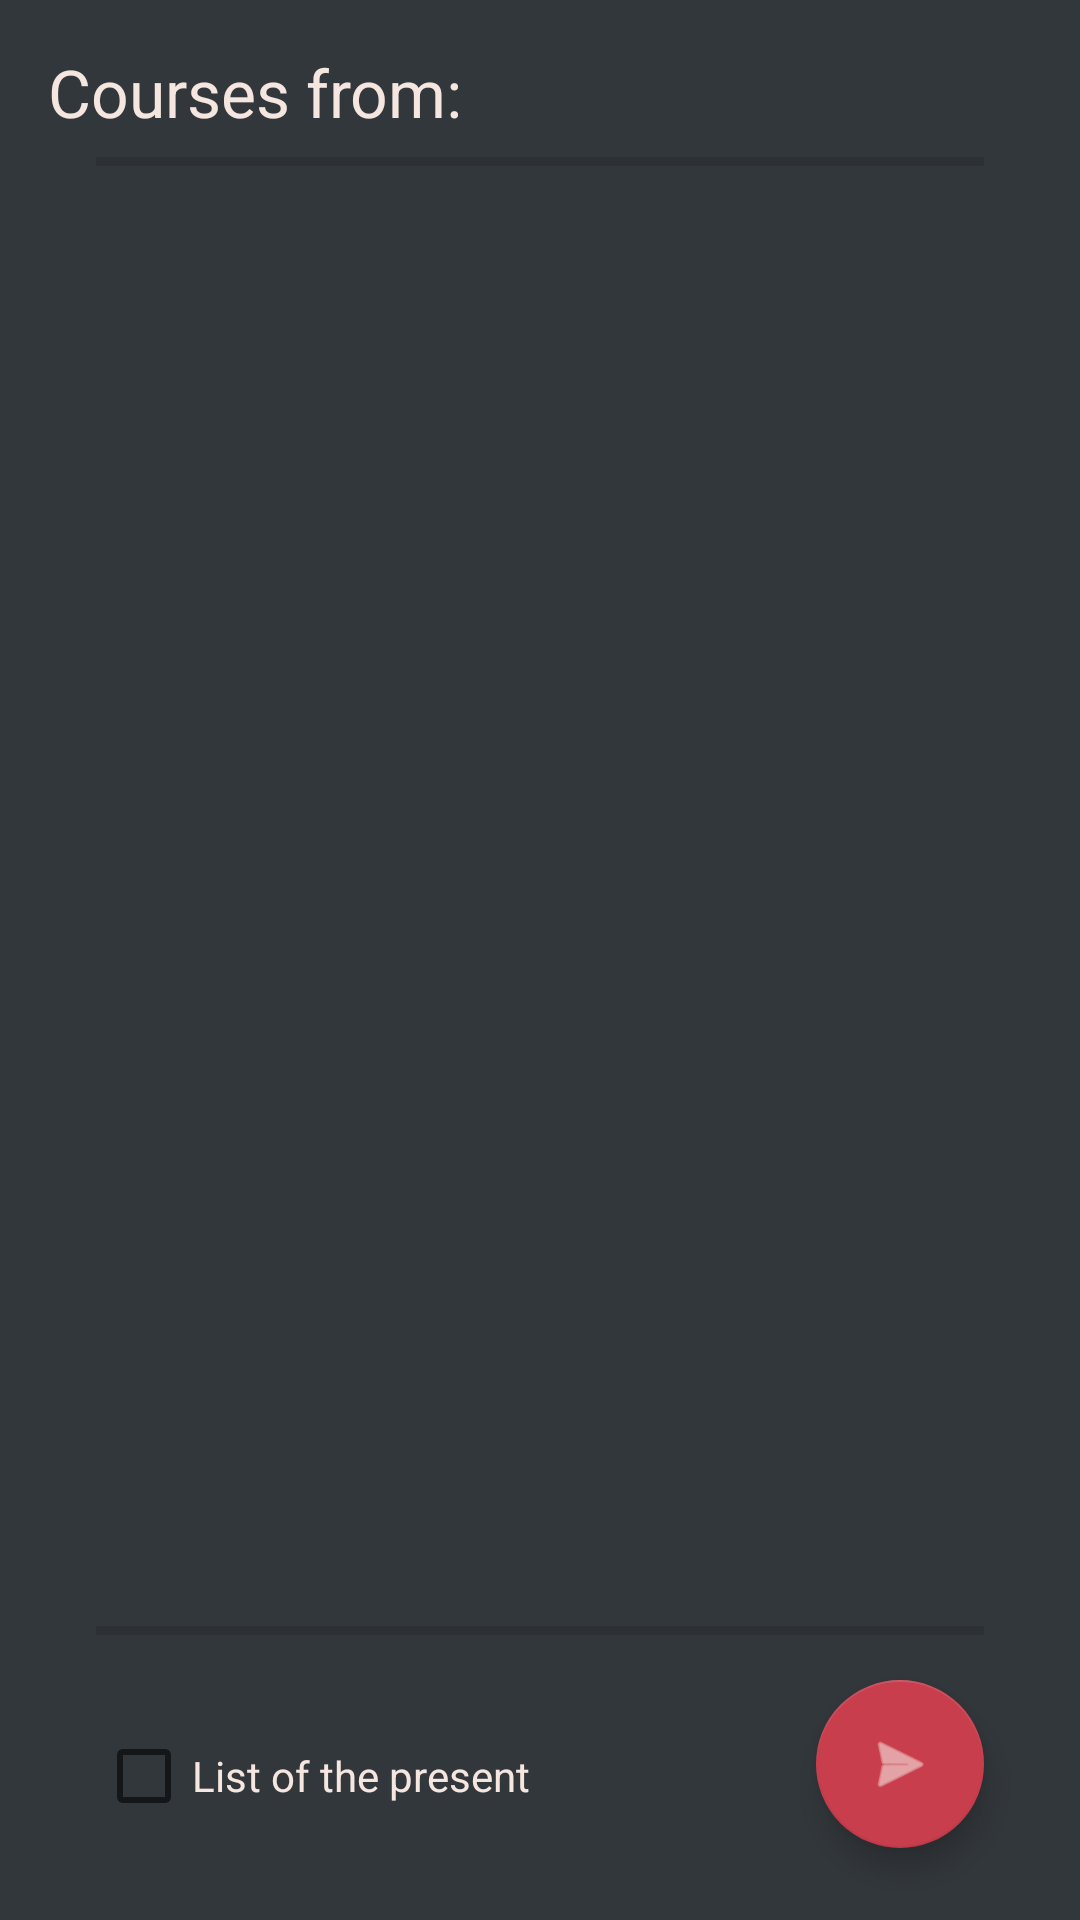

Screen size 1080 x 1920. Icon name, then its center in pixels as (x,y):
send: (900,1764)
